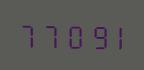nine: (81, 20, 101, 50)
one: (102, 20, 122, 50)
seven: (18, 19, 38, 49), (39, 19, 59, 49)
zero: (60, 19, 80, 50)
